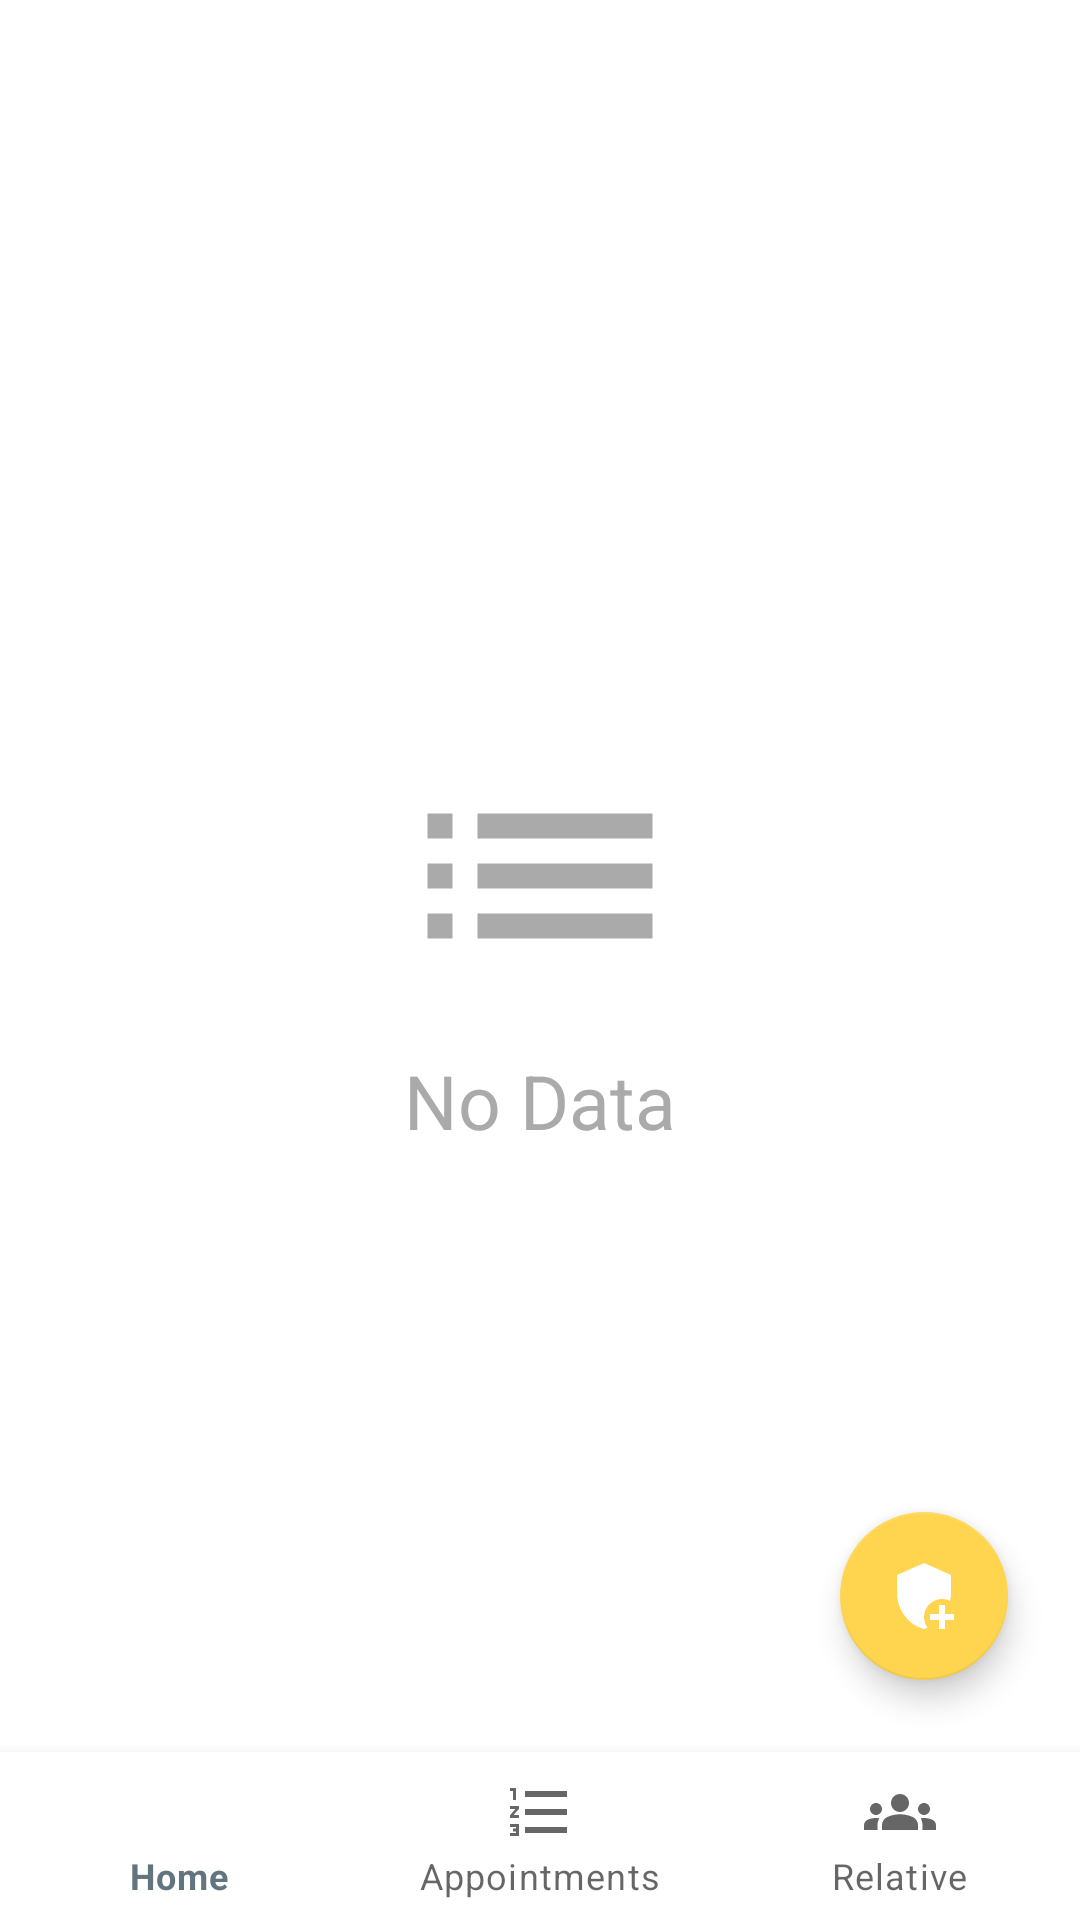

Icons on this 1080x1920 Android screen, each with the point to tap as point (x, y):
add prescription: point (924, 1596)
empty list: point (540, 876)
